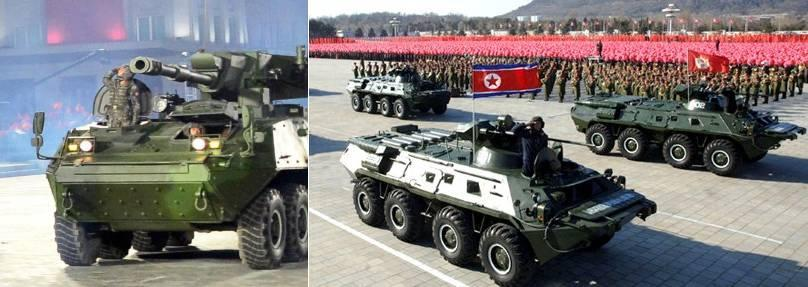MIL_IFV: (30, 43, 307, 270), (342, 112, 656, 286), (569, 86, 807, 177), (349, 68, 452, 118)
